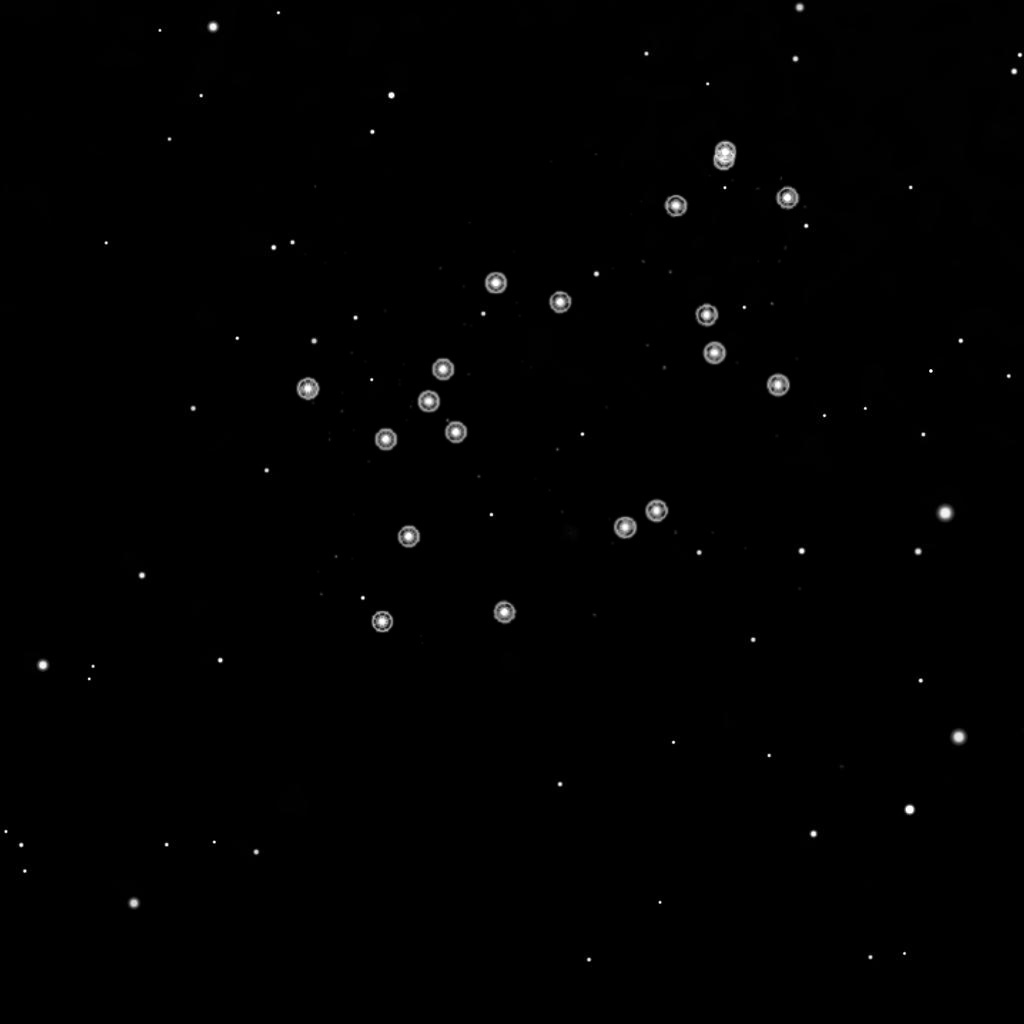canis_major: (365, 264, 581, 462)
